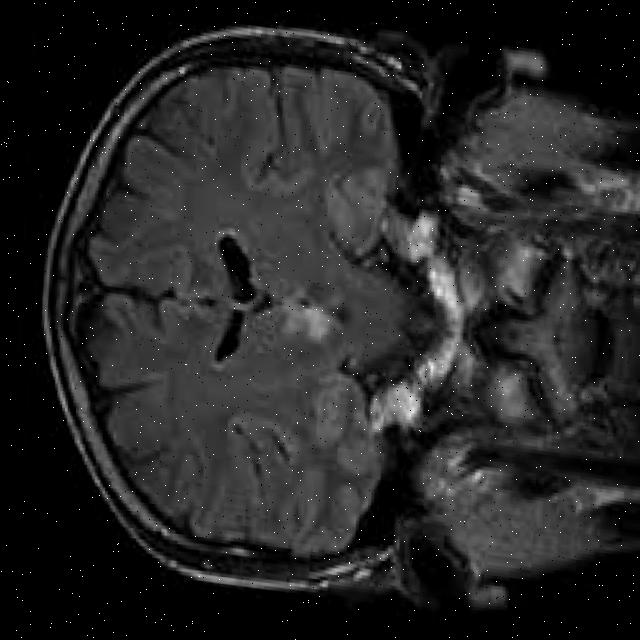NoTumor: (5, 0, 453, 611)
